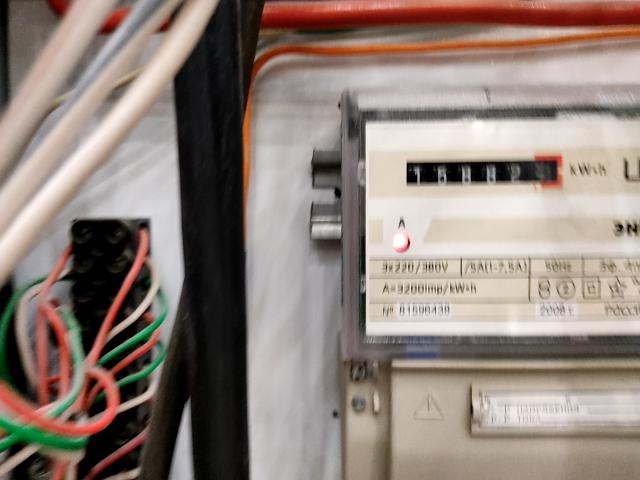screen: (398, 150, 571, 192)
